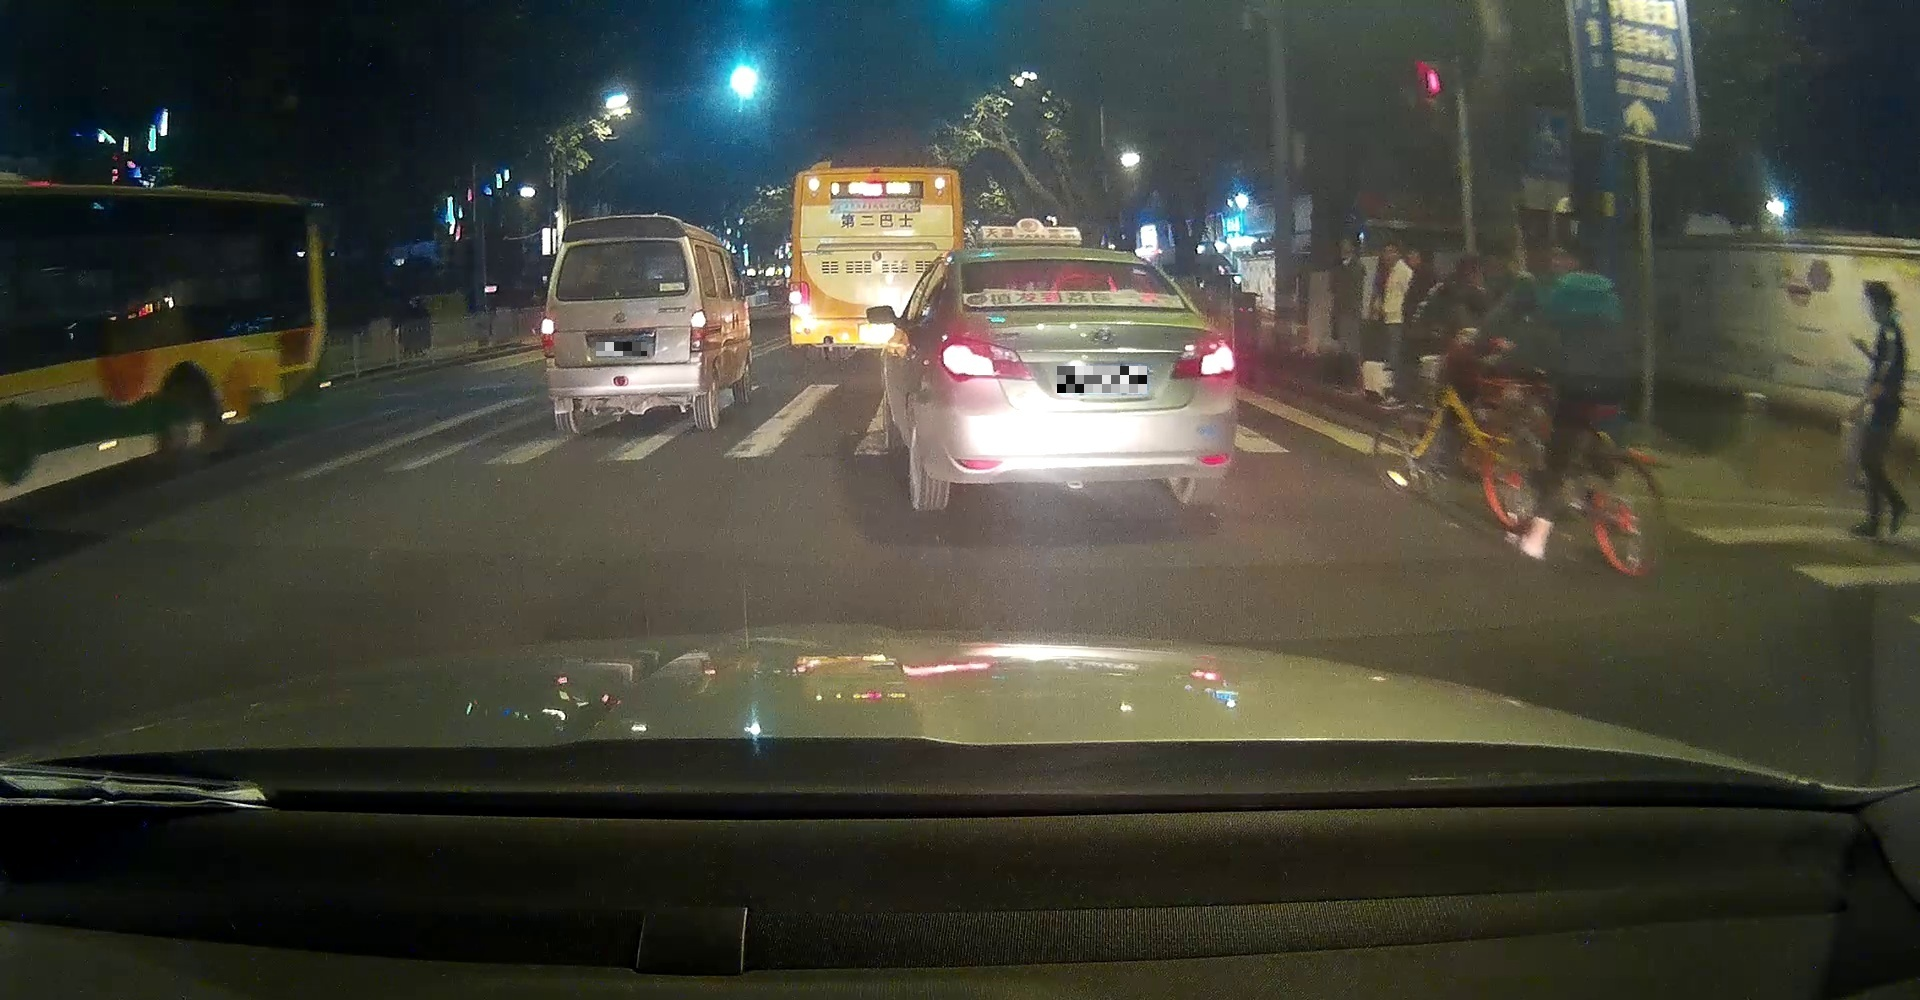L_light: (938, 338, 1032, 383), (538, 319, 554, 357)
R_light: (1170, 332, 1234, 379), (690, 310, 706, 352)
T_light: (1048, 259, 1088, 268), (608, 242, 632, 247)
night-no: (940, 246, 1236, 511), (538, 214, 707, 431)
plate_1: (596, 341, 648, 357)
plate_2: (1057, 365, 1147, 393)
